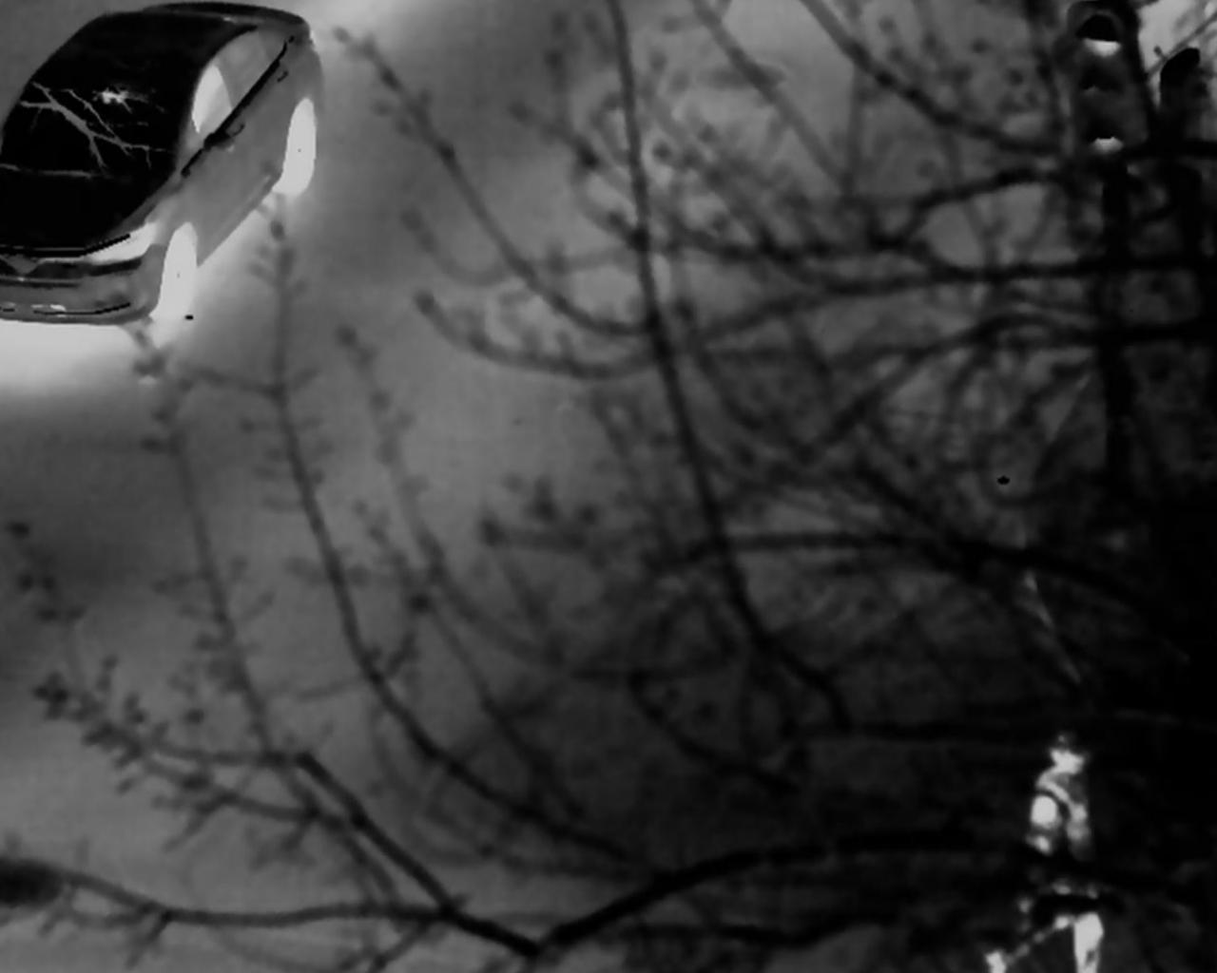person: (1016, 724, 1108, 973)
